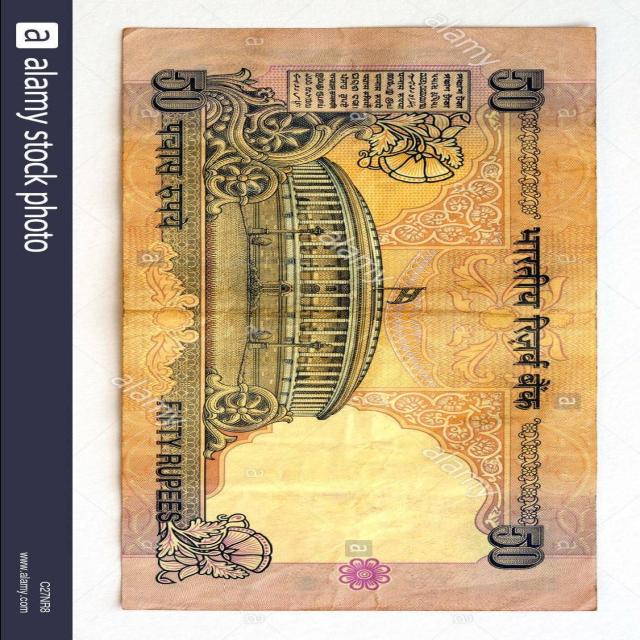50IndianRupees: (111, 32, 600, 609)
